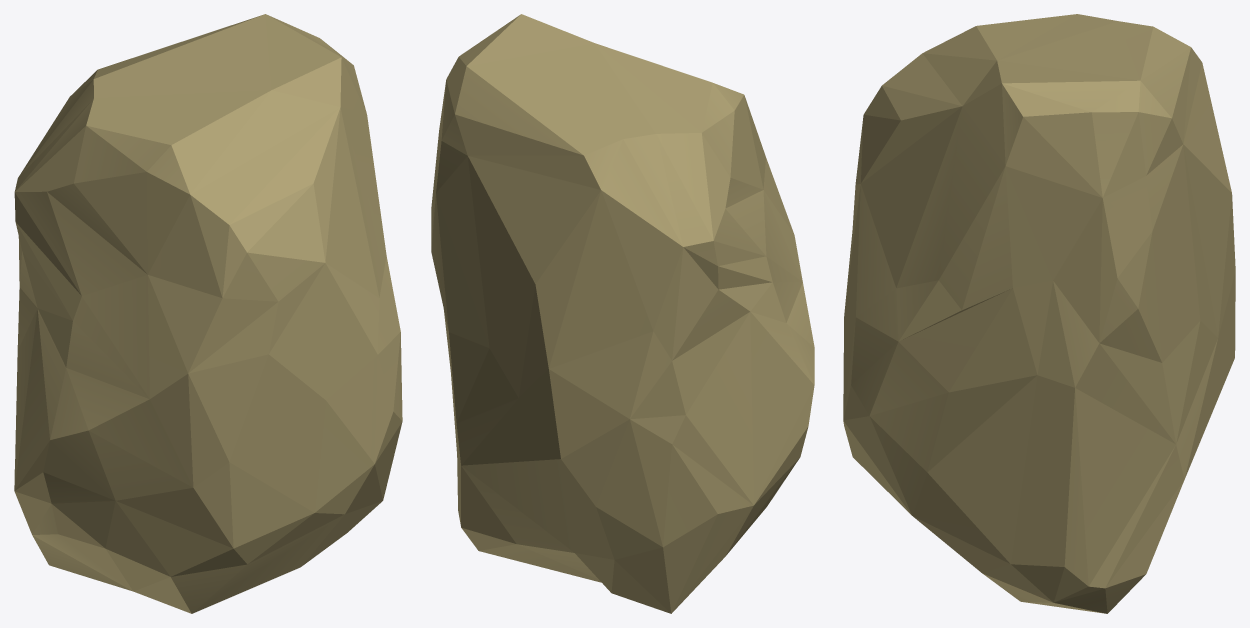
File: SM_small_rock_13.fbx
3 views of the same model, side by side, from view 1: azimuth 30°, elevation 25°; view 2: azimuth 150°, elevation 25°; view 3: azimuth 270°, elevation 25° (orthographic). The views are drawn at different scales.
Parts seen in each view (by area): view 1: small_rock_13; view 2: small_rock_13; view 3: small_rock_13.
Boxes of the visible parts, x1=… form: small_rock_13: x1=14, y1=14, x2=402, y2=613; small_rock_13: x1=431, y1=14, x2=814, y2=613; small_rock_13: x1=843, y1=14, x2=1235, y2=613.
Bounding box in the file's own units: 79.78 × 115 × 76.24.
